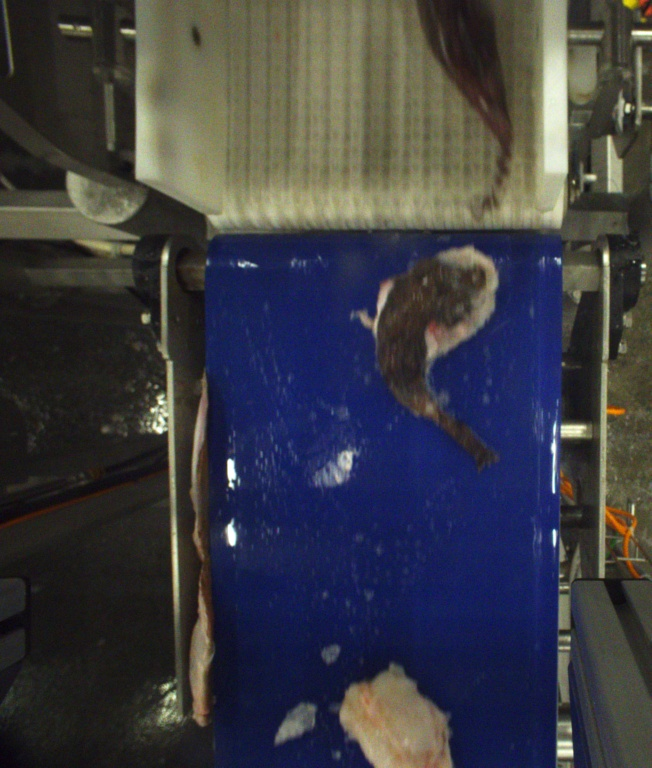ANF: (419, 0, 516, 220)
